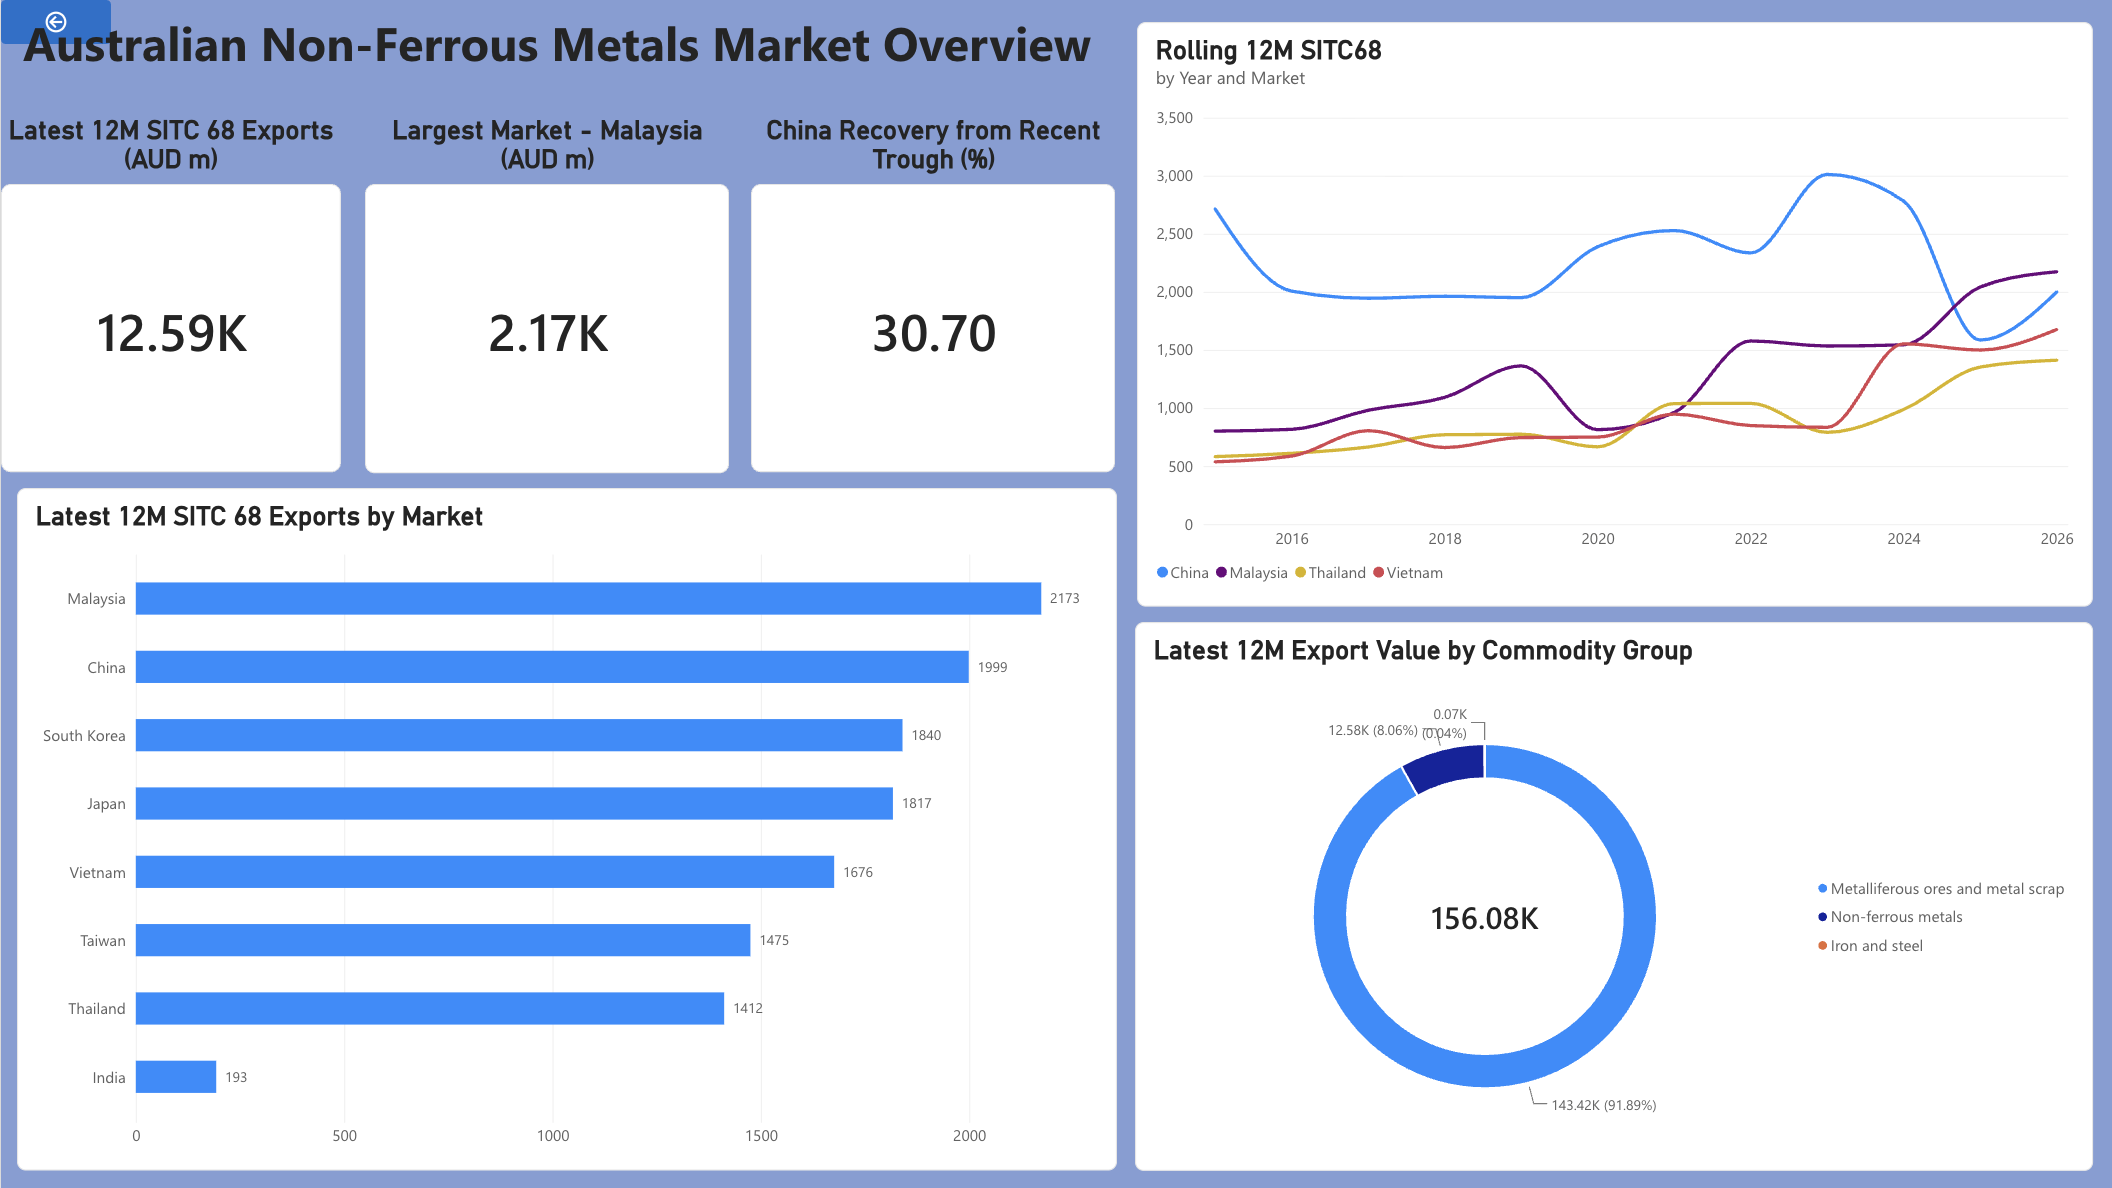

Layout of this report page (visuals, bound fields, positions):
{"tool":"powerbi","page":{"name":"Market Overview","canvas":[1920,1080],"ordinal":0},"visuals":[{"type":"cardVisual","title":"Latest 12M SITC 68 Exports (AUD m)","fields":{"Data":["Sum(RecentMomentum.latest)"]},"box":[0,106.9,309.2,322],"z":0},{"type":"cardVisual","title":"Largest Market - Malaysia (AUD m)","fields":{"Data":["Sum(RecentMomentum.latest)"]},"box":[330.6,106.9,332,323.4],"z":1000},{"type":"cardVisual","title":"China Recovery from Recent Trough (%)","fields":{"Data":["Sum(RecentMomentum.change_from_trough_pct)"]},"box":[682.5,106.9,332,322],"z":2000},{"type":"clusteredBarChart","title":"Latest 12M SITC 68 Exports by Market","fields":{"Category":["RecentMomentum.market"],"Y":["Sum(RecentMomentum.latest)"]},"box":[14.6,442.9,1000.2,620.5],"z":3000},{"type":"lineChart","fields":{"Category":["DateTable.Date.Variation.Date Hierarchy.Year","DateTable.Date.Variation.Date Hierarchy.Quarter","DateTable.Date.Variation.Date Hierarchy.Month","DateTable.Date.Variation.Date Hierarchy.Day"],"Y":["Exports.Rolling 12M SITC68"],"Series":["Markets.Market"]},"box":[1033,19.9,869.1,531.5],"z":4000},{"type":"actionButton","box":[0,0,100,40],"z":5000},{"type":"donutChart","title":"Latest 12M Export Value by Commodity Group","fields":{"Category":["Exports.sitc_name"],"Y":["Sum(Exports.value_aud_m)"]},"box":[1031.8,564.6,871.2,498.9],"z":6000},{"type":"textbox","box":[19.5,9.7,992.9,70.6],"z":7000}]}

Visuals, with their boxes on the page's 1920x1080 design canvas (x1, y1, x2, y2). These are canvas units, not pixel positions in the 2112x1188 screenshot, which may show the page scaled, cropped or inside an application window:
"Latest 12M SITC 68 Exports (AUD m)" cardVisual: <bbox>0, 107, 309, 429</bbox>
"Largest Market - Malaysia (AUD m)" cardVisual: <bbox>331, 107, 663, 430</bbox>
"China Recovery from Recent Trough (%)" cardVisual: <bbox>682, 107, 1014, 429</bbox>
"Latest 12M SITC 68 Exports by Market" clusteredBarChart: <bbox>15, 443, 1015, 1063</bbox>
lineChart - DateTable.Date.Variation.Date Hierarchy.Year x DateTable.Date.Variation.Date Hierarchy.Quarter: <bbox>1033, 20, 1902, 551</bbox>
actionButton: <bbox>0, 0, 100, 40</bbox>
"Latest 12M Export Value by Commodity Group" donutChart: <bbox>1032, 565, 1903, 1064</bbox>
textbox: <bbox>20, 10, 1012, 80</bbox>
